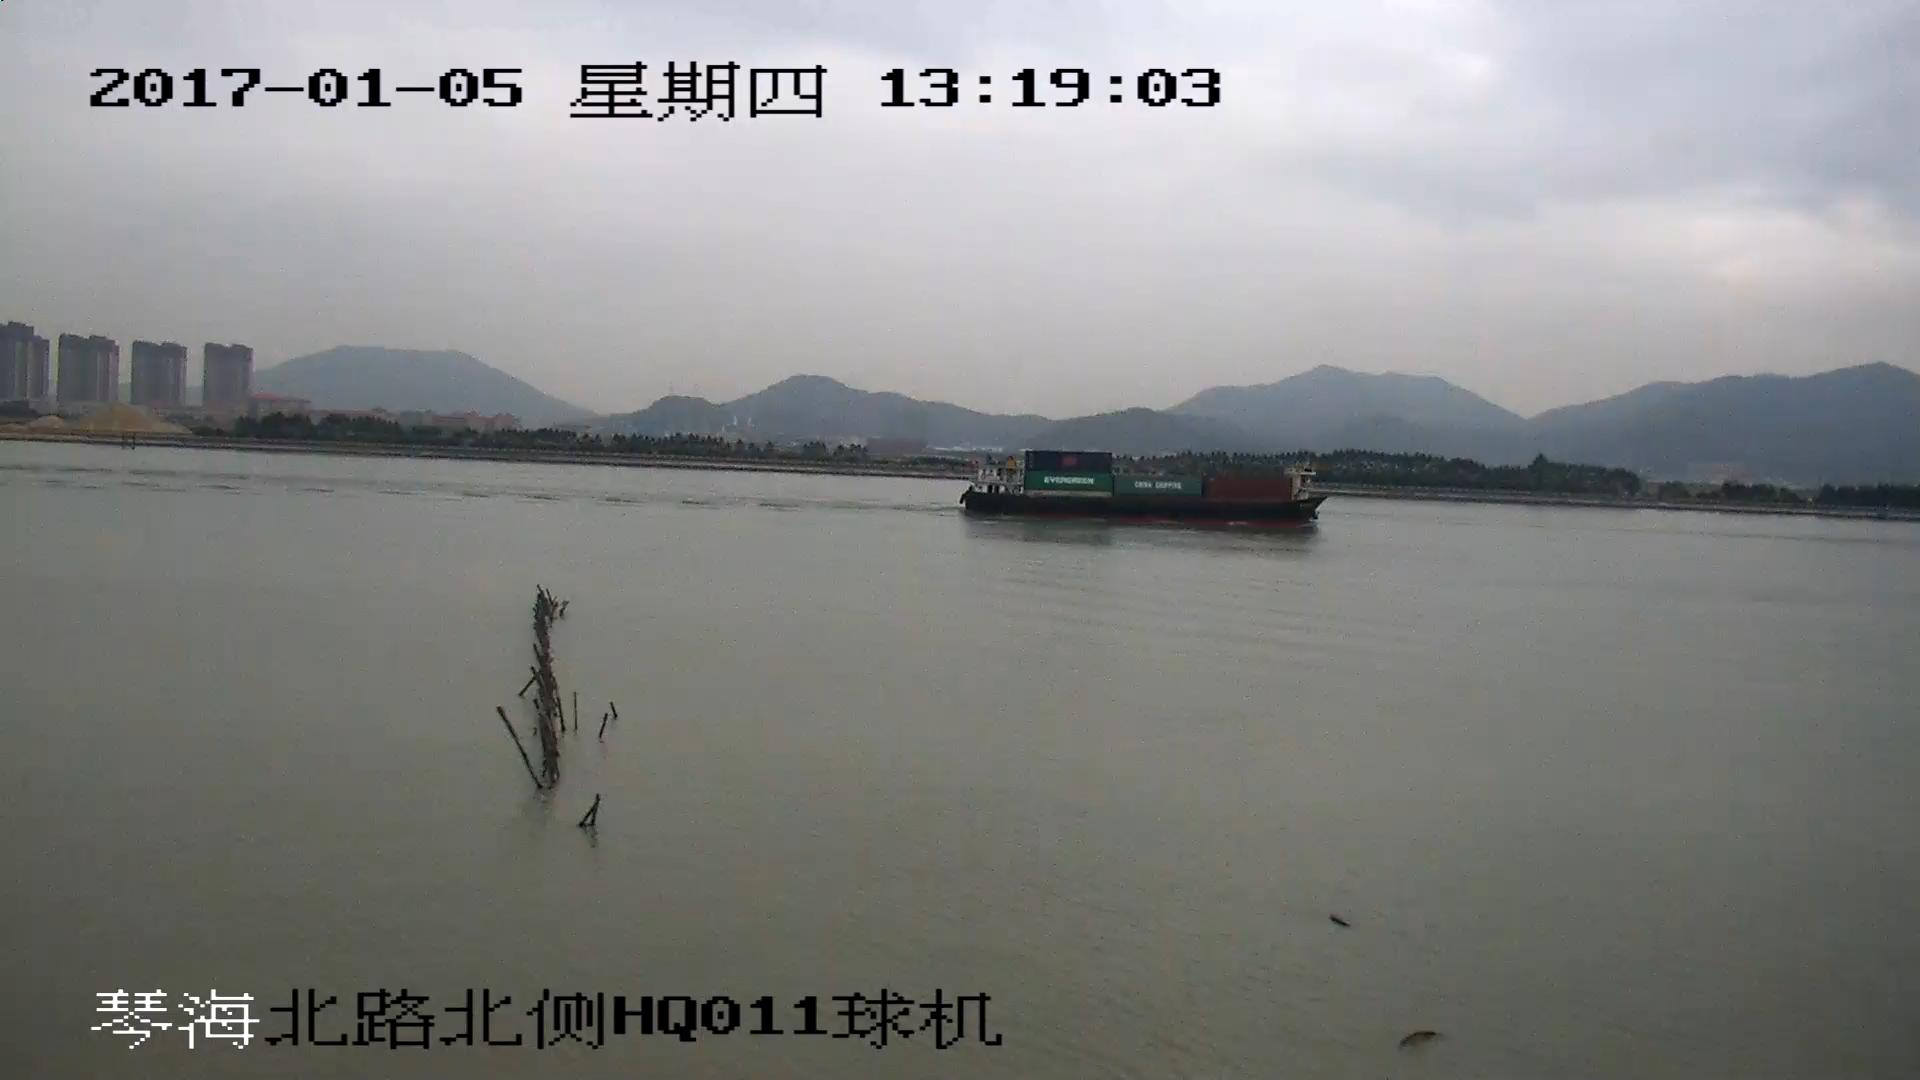container ship: (964, 448, 1333, 526)
